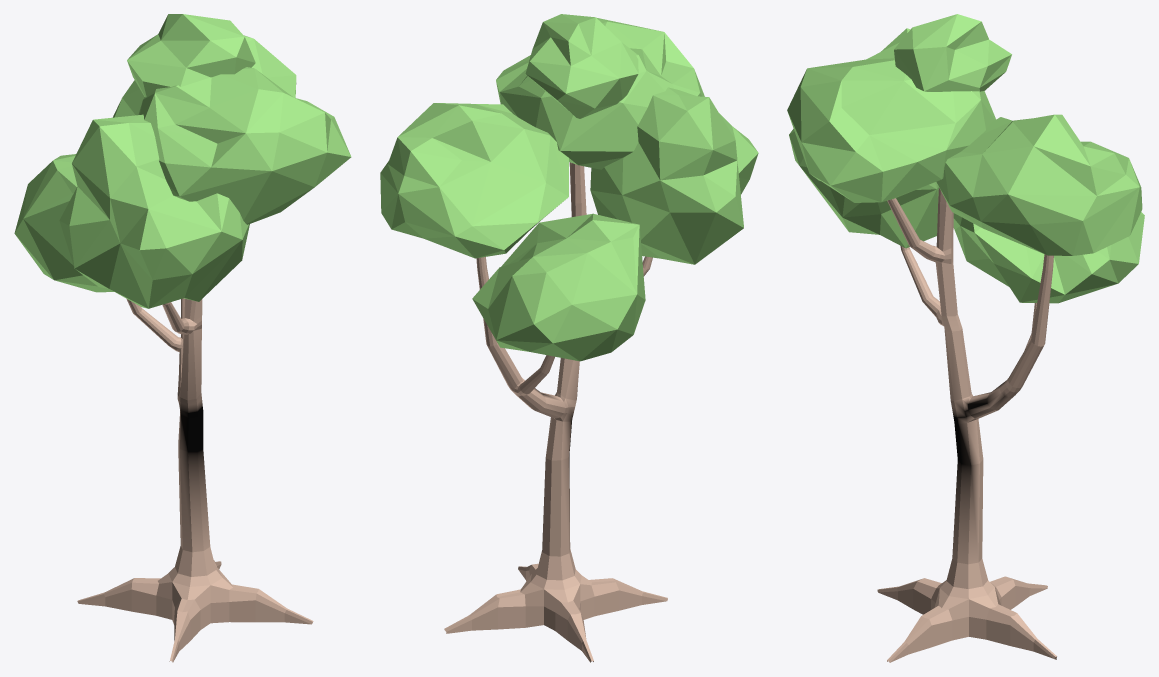
File: lowPolyTree.fbx
3 views of the same model, side by side, from view 1: azimuth 30°, elevation 25°; view 2: azimuth 150°, elevation 25°; view 3: azimuth 270°, elevation 25° (orthographic). The views are drawn at different scales.
Parts seen in each view (by area): view 1: birchFoliageLowPoly, birchLowPoly; view 2: birchFoliageLowPoly, birchLowPoly; view 3: birchFoliageLowPoly, birchLowPoly.
Boxes of the visible parts, bbox=[...] form: birchFoliageLowPoly: bbox=[14, 14, 351, 308]; birchLowPoly: bbox=[77, 298, 313, 662]; birchFoliageLowPoly: bbox=[380, 14, 758, 361]; birchLowPoly: bbox=[444, 162, 667, 662]; birchFoliageLowPoly: bbox=[787, 14, 1144, 303]; birchLowPoly: bbox=[877, 188, 1056, 662].
Size of the model in its own units: 1744 by 3642 by 1953.
